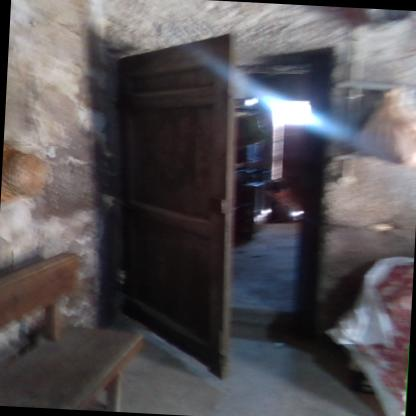semi: (86, 24, 347, 388)
